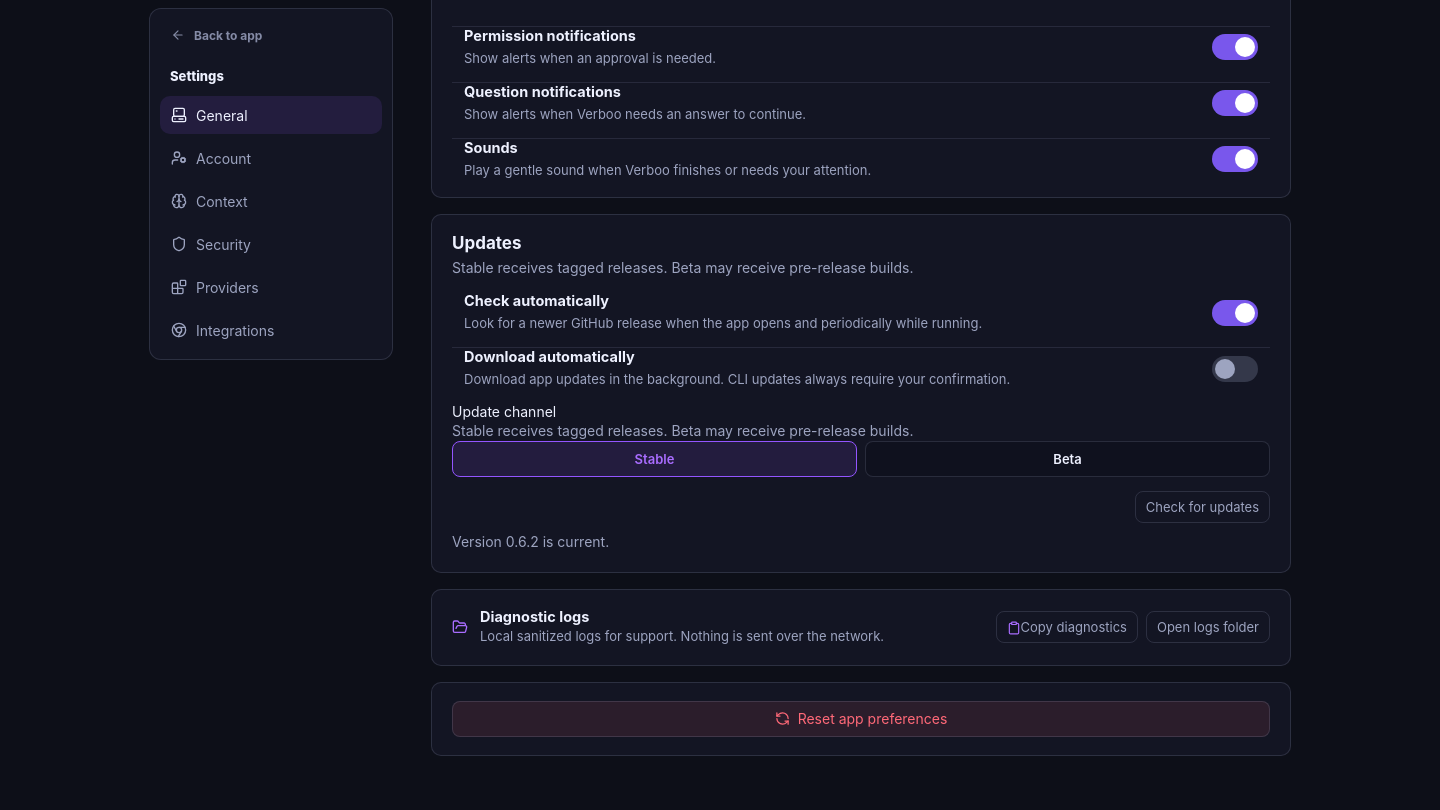
it: SettingsView redesign → the five grouped tabs keep their real controls › reports a diagnostic package failure without claiming it copied
The width and height of the screenshot is (1440, 810).
(page scrolled)
Click the button "Copy diagnostics" at (1067, 627), box [996,611,1138,643]
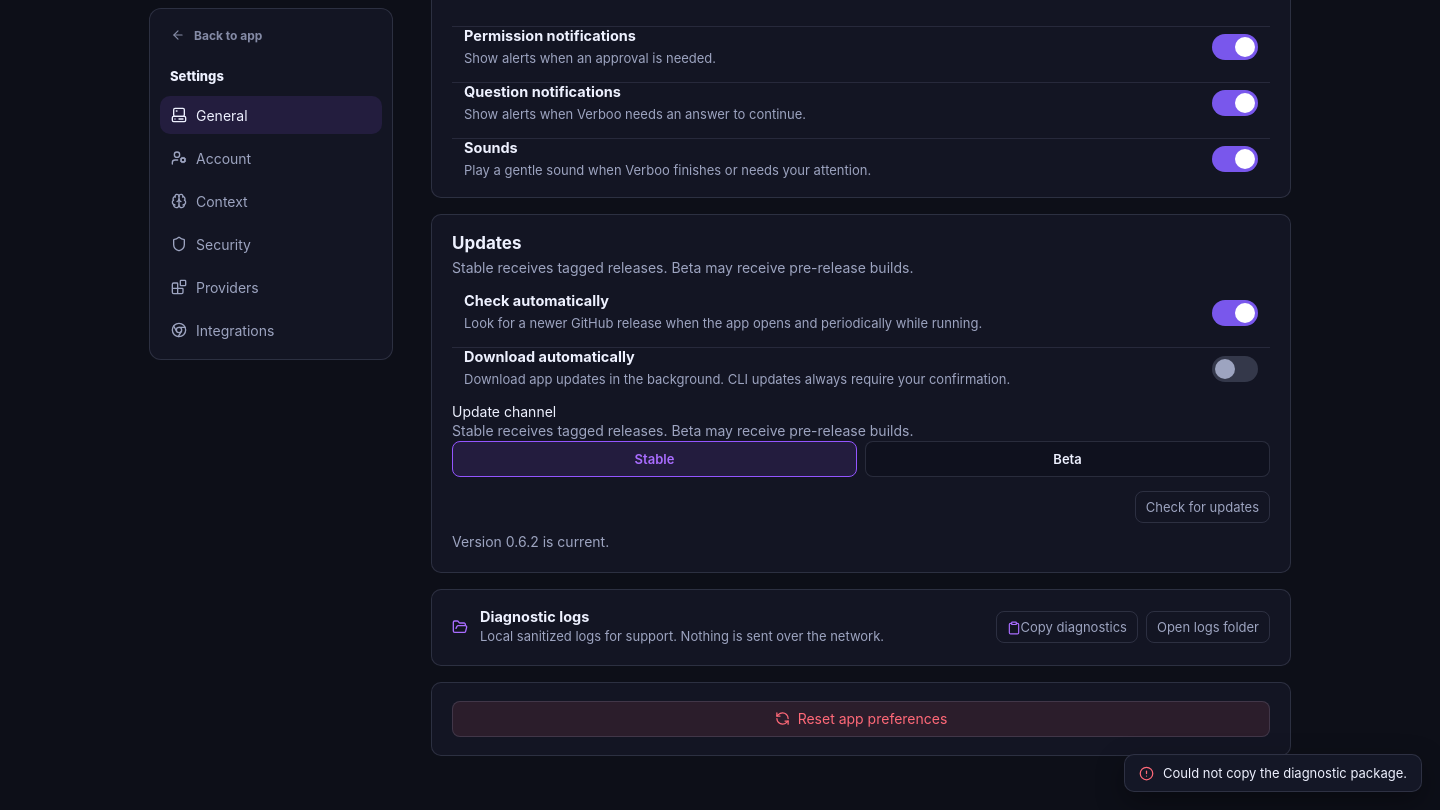
Check: the button "Could not copy the diagnostic package." is shown, box [1124,754,1422,792]
